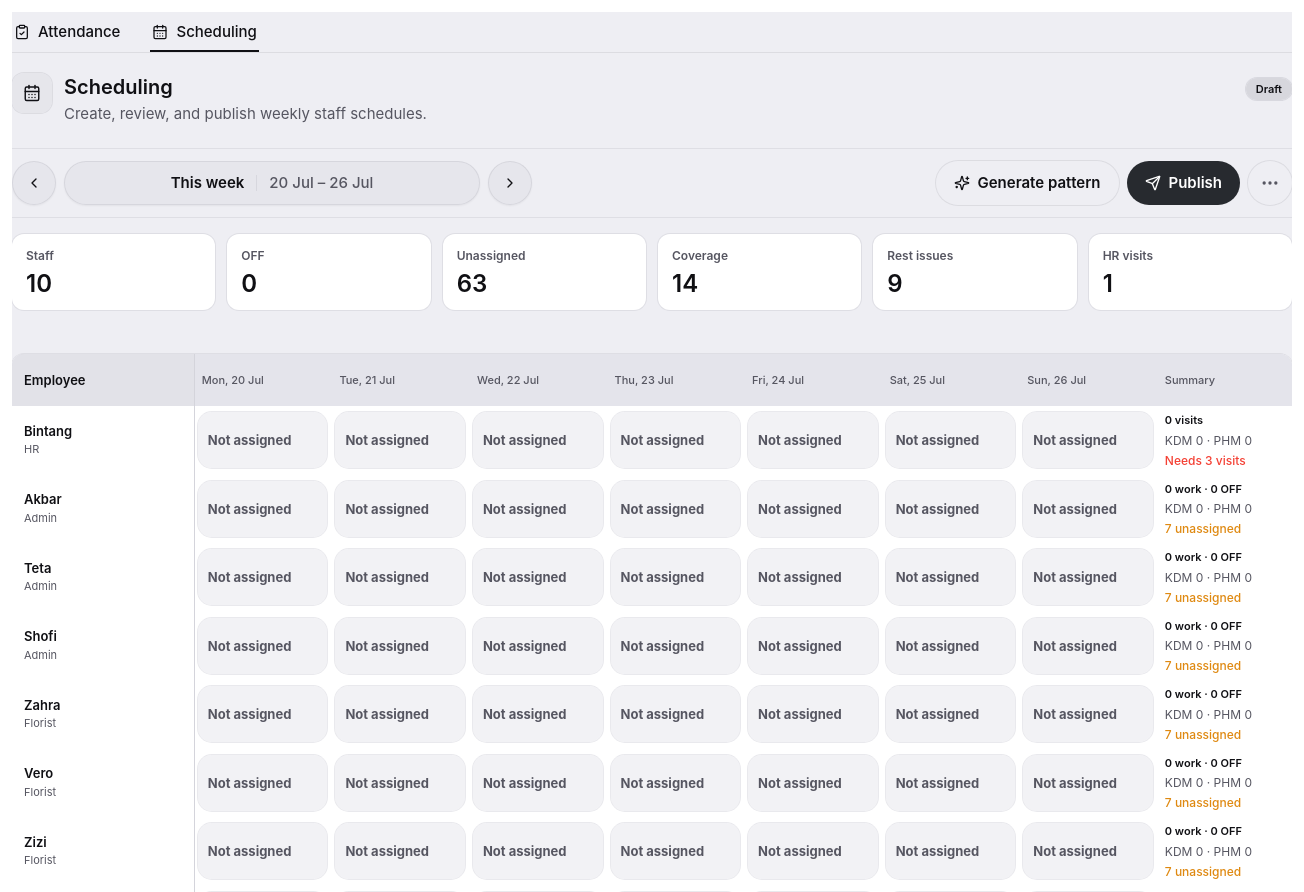
it: HR Scheduling UI › shows the simplified weekly schedule without staff defaults
expect the heading "Scheduling" is shown: met, box [64,75,173,99]
expect the text "Create, review, and publish weekly staff schedules." is shown: met, box [64,104,427,124]
Click the button named "More scheduling actions" at (1270, 183), box [1248,161,1292,205]
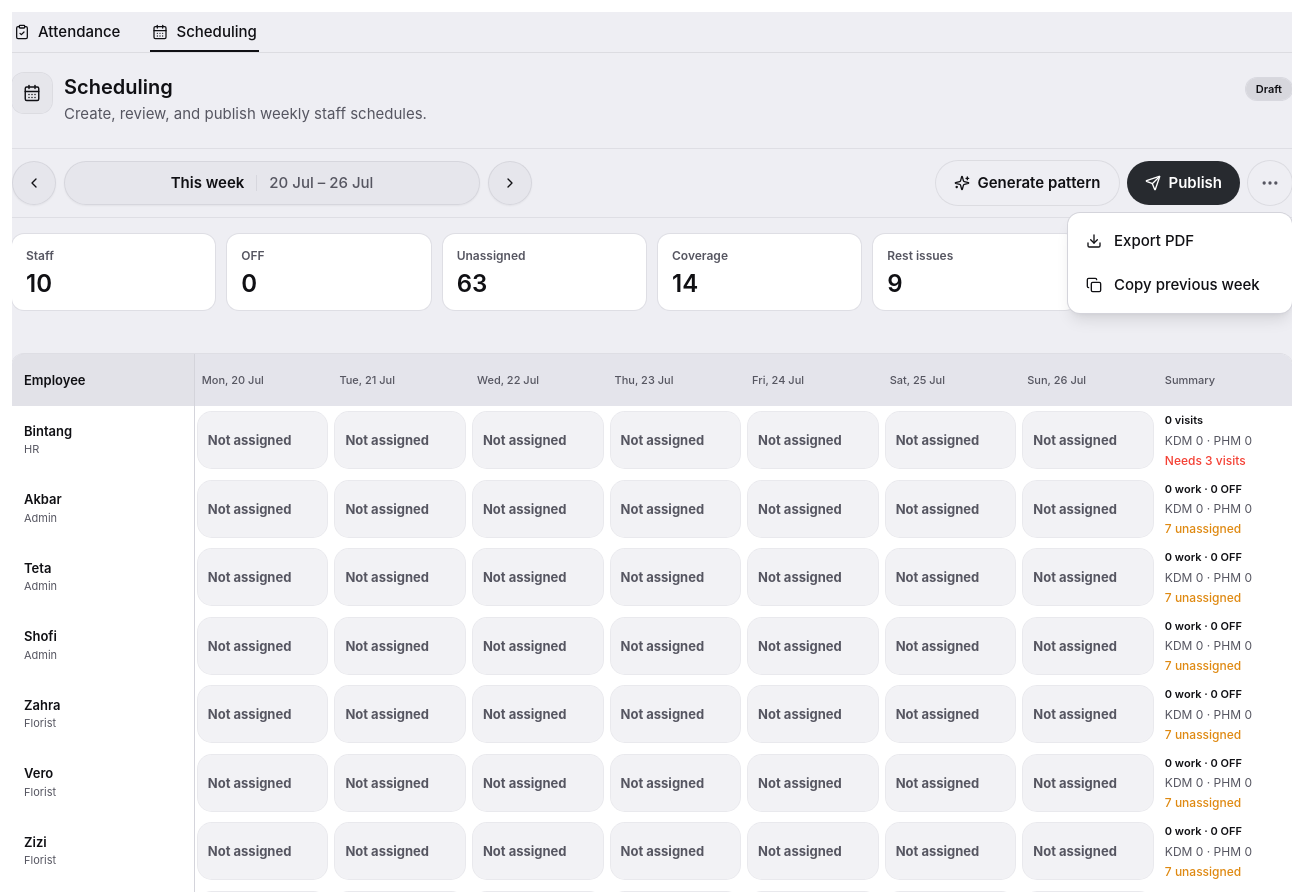
expect the button "Export PDF" is shown: met, box [1074,219,1286,263]
